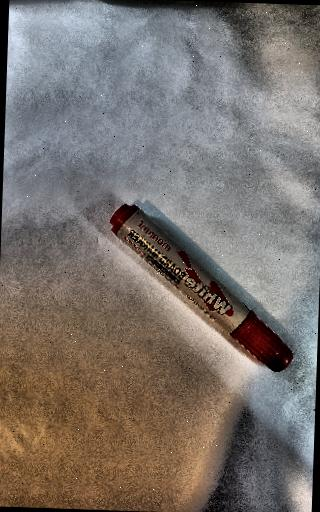marcador rojo: (109, 204, 292, 372)
